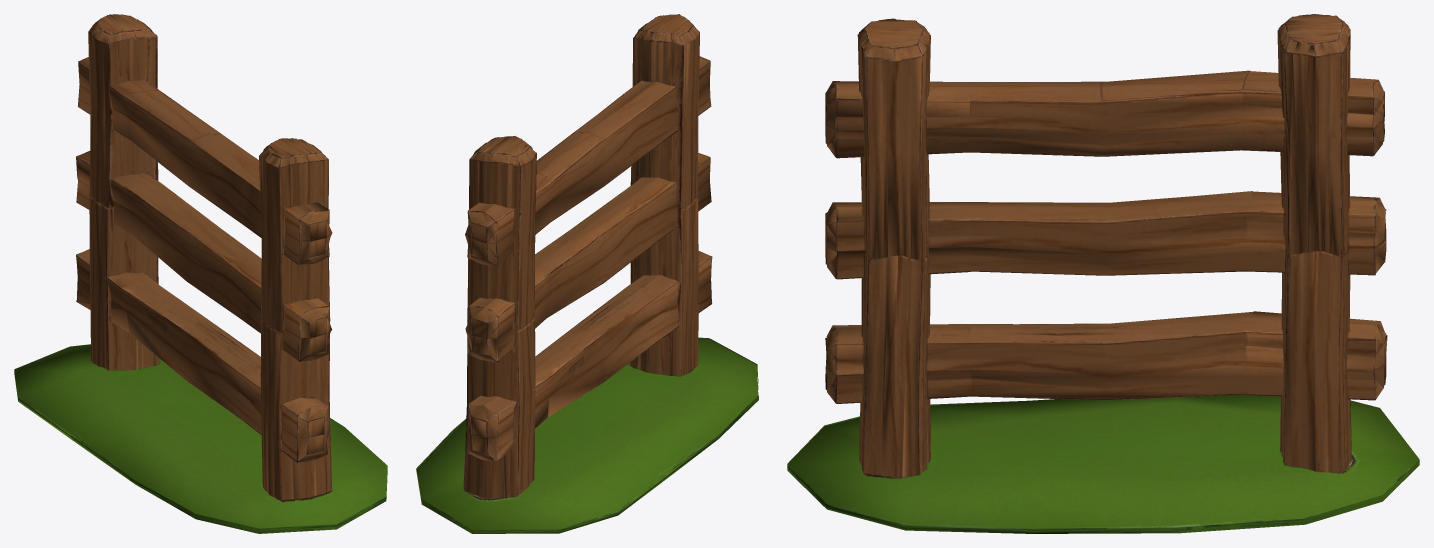
The picture shows the model from 3 angles, left to right: view 1: azimuth 30°, elevation 25°; view 2: azimuth 150°, elevation 25°; view 3: azimuth 270°, elevation 25°; orthographic projection. The views are drawn at different scales.
Parts seen in each view (by area): view 1: tripo_node_db970c26-097f-43dd-9649-dd1f7d9b3236; view 2: tripo_node_db970c26-097f-43dd-9649-dd1f7d9b3236; view 3: tripo_node_db970c26-097f-43dd-9649-dd1f7d9b3236.
Part boxes in pixels (x1,y1,x2,y2): tripo_node_db970c26-097f-43dd-9649-dd1f7d9b3236: [14, 14, 387, 533]; tripo_node_db970c26-097f-43dd-9649-dd1f7d9b3236: [416, 14, 758, 533]; tripo_node_db970c26-097f-43dd-9649-dd1f7d9b3236: [787, 14, 1419, 533].
Bounding box in the file's own units: 0.7697 × 1.2 × 1.54.
1 material, 1 textured.
